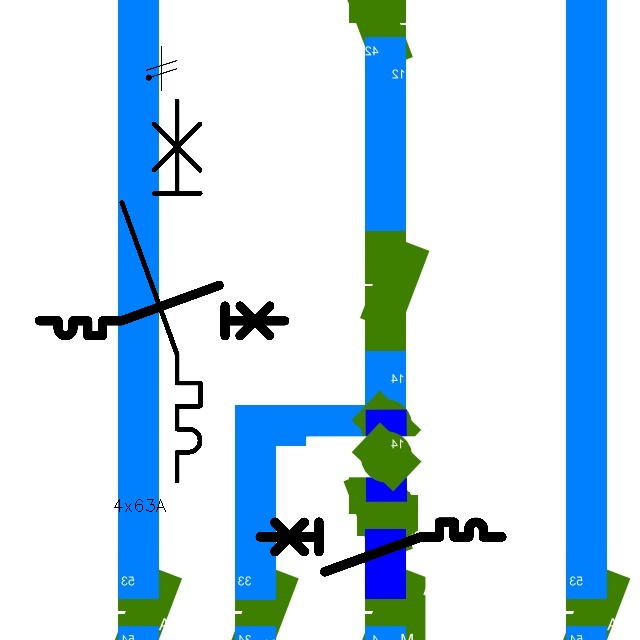interruptor_termomagnetico: (112, 91, 210, 491), (33, 279, 291, 342), (254, 516, 508, 578)
